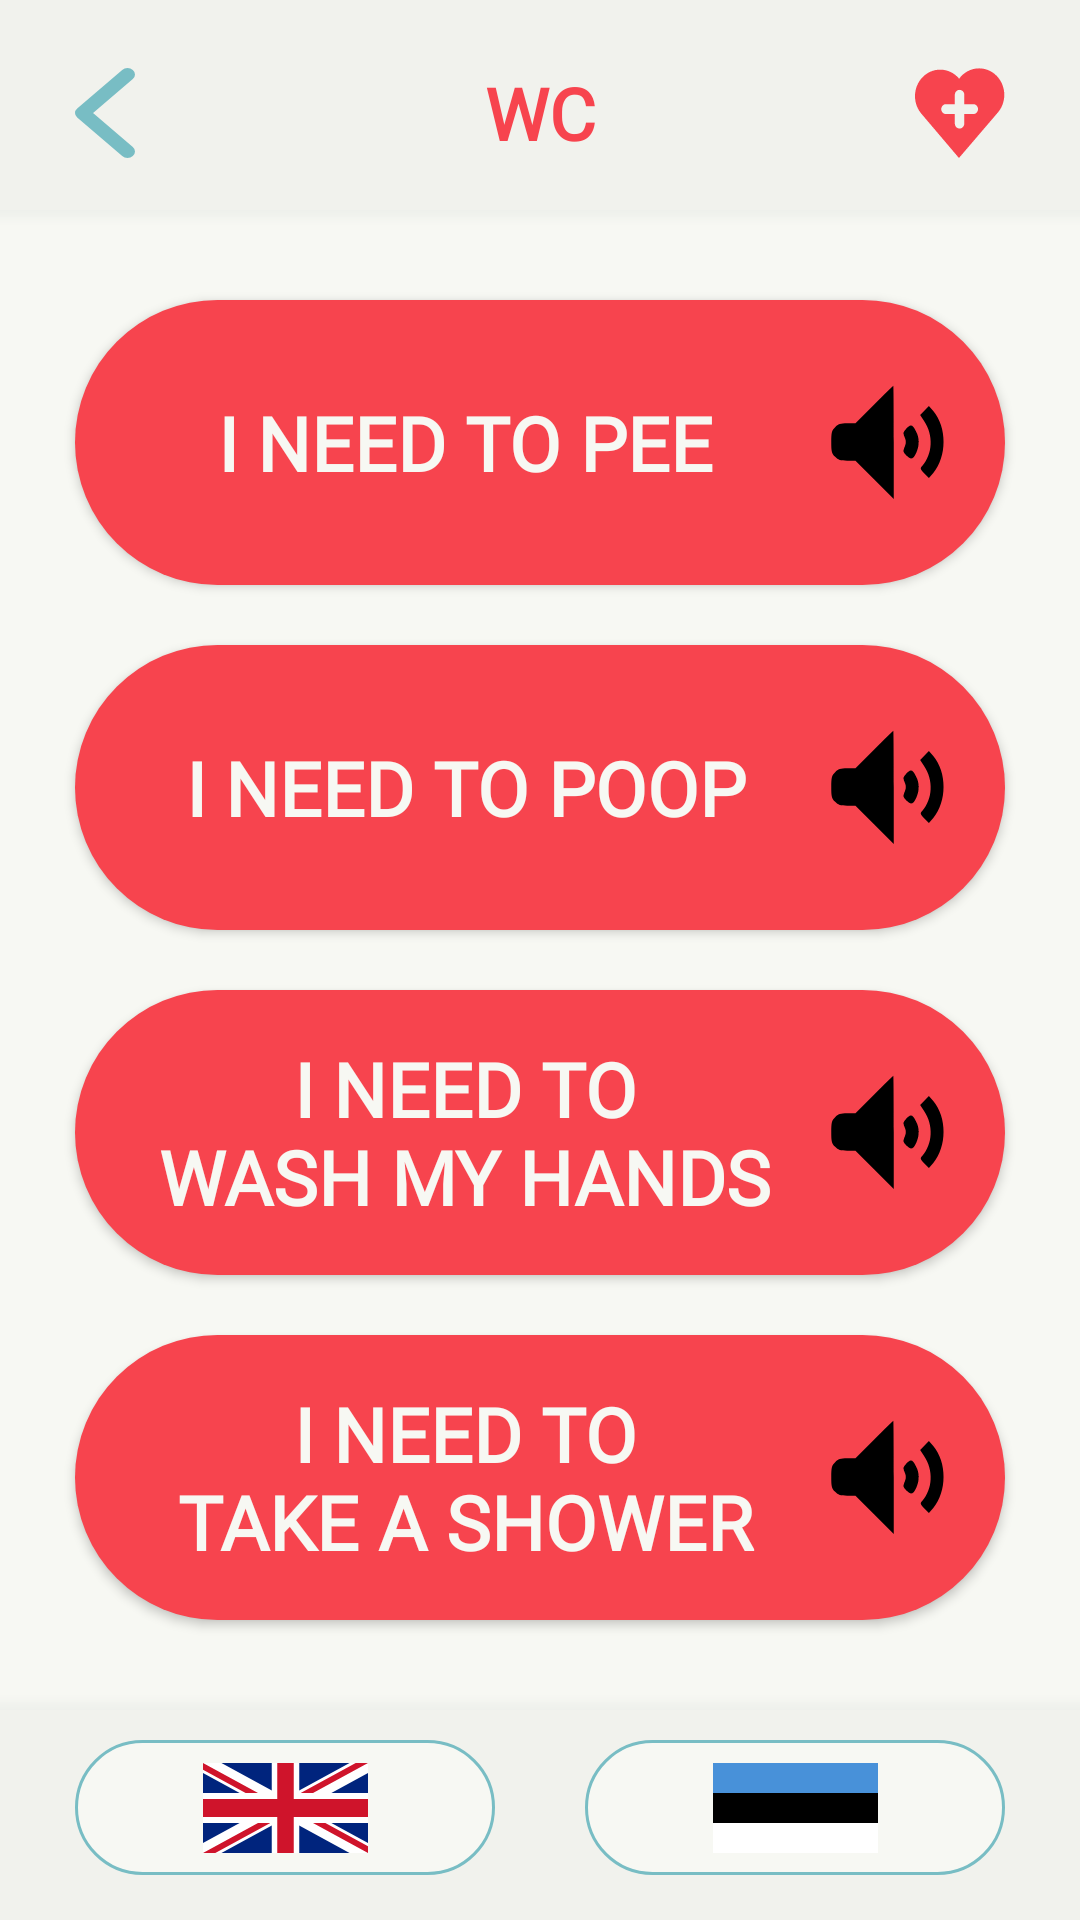

Locate icon controls on the screen. Image size 1080px x 1920px, boxes as (x1, y1, x2, y2).
arrow back: (75, 68, 135, 158)
